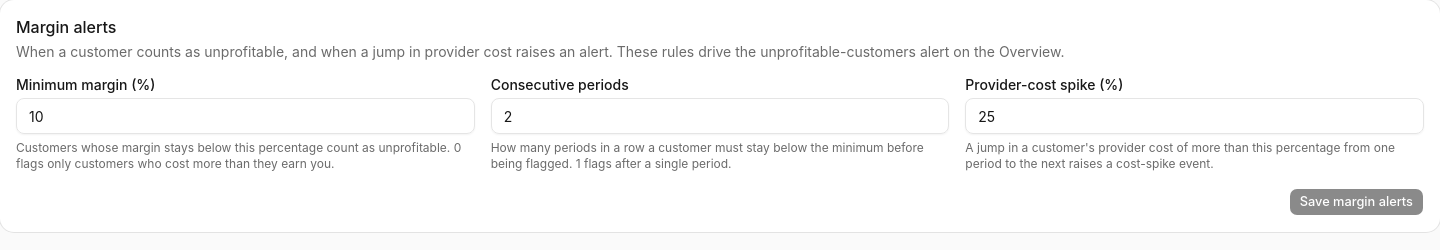
Test: MarginAlertCard › saves changed thresholds and resets the form to the server response
Replace the text in the number field labelled "Minimum margin (%)" with "15" at (245, 116), box [16,98,475,134]
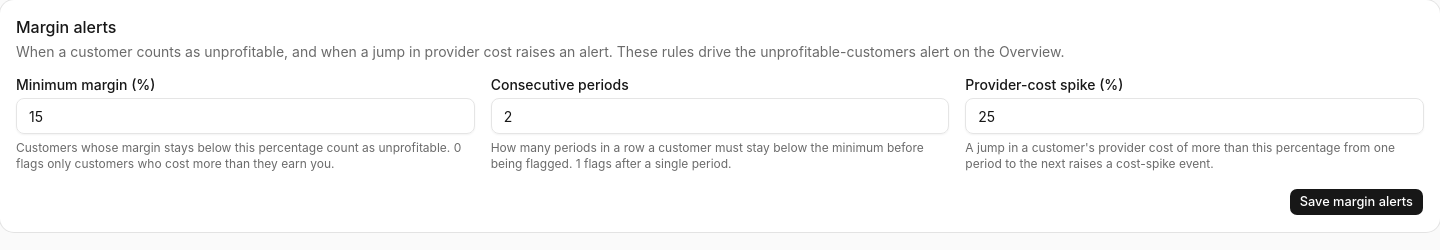
Replace the text in the number field labelled "Consecutive periods" with "3" at (720, 116), box [491,98,949,134]
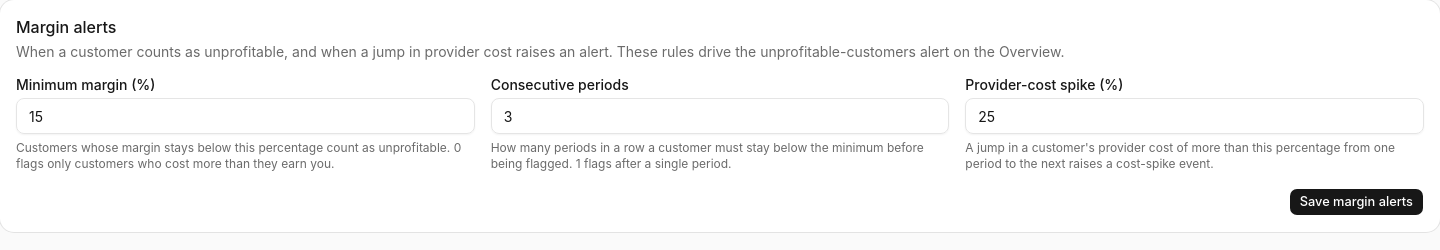
Result: the button "Save margin alerts" is enabled
Click the button "Save margin alerts" at (1356, 202), box [1289,188,1424,216]
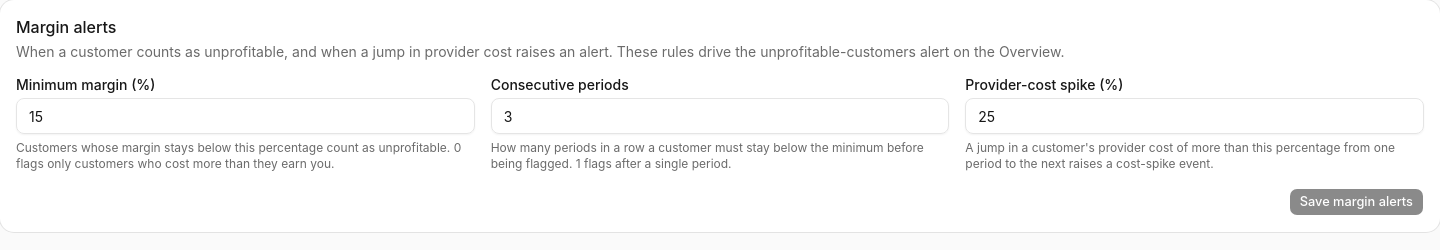
Result: the button "Save margin alerts" is disabled at [1289,188,1424,216]
